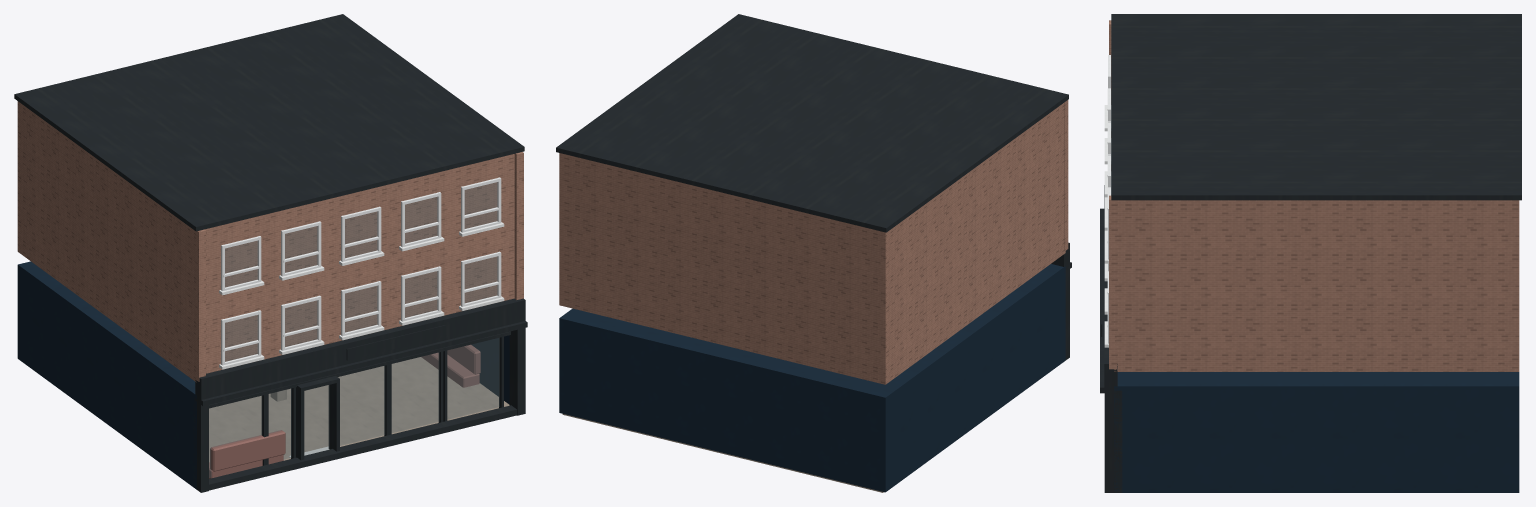
Rendered from renee-blockout.glb.
3 renders of one model, left to right at view 1: azimuth 30°, elevation 25°; view 2: azimuth 150°, elevation 25°; view 3: azimuth 270°, elevation 25°, orthographic. The views are drawn at different scales.
Parts seen in each view (by area): view 1: REN_UpperFacade_Main, REN_RoofCap, REN_Wall_Left, REN_Floor, REN_Fascia_Main, REN_GroundPlinth, REN_Glass_Bay_05, REN_Glass_Bay_04, REN_Glass_Bay_03, REN_CeilingPlane, REN_Fascia_LowerLip, REN_Glass_Bay_01 (+24 smaller); view 2: REN_UpperFacade_Main, REN_RoofCap, REN_Wall_Back, REN_Wall_Left, REN_CeilingPlane, REN_UpperPartyPier_Left, REN_Floor; view 3: REN_RoofCap, REN_UpperFacade_Main, REN_Wall_Right, REN_CeilingPlane, REN_GroundPier_Right, REN_UpperPartyPier_Right, REN_Fascia_LowerLip, REN_Wall_Back, REN_Fascia_Main.
Part boxes in pixels (bbox=[...]): REN_UpperFacade_Main: bbox=[17, 101, 514, 382]; REN_RoofCap: bbox=[14, 14, 524, 231]; REN_Wall_Left: bbox=[17, 270, 196, 489]; REN_Floor: bbox=[209, 357, 509, 462]; REN_Fascia_Main: bbox=[195, 298, 525, 399]; REN_GroundPlinth: bbox=[209, 405, 516, 490]; REN_Glass_Bay_05: bbox=[447, 338, 499, 419]; REN_Glass_Bay_04: bbox=[392, 353, 438, 432]; REN_Glass_Bay_03: bbox=[338, 366, 384, 445]; REN_CeilingPlane: bbox=[17, 261, 196, 399]; REN_Fascia_LowerLip: bbox=[195, 321, 527, 406]; REN_Glass_Bay_01: bbox=[209, 396, 261, 477]; REN_UpperFacade_Main: bbox=[559, 103, 1065, 384]; REN_RoofCap: bbox=[556, 14, 1068, 232]; REN_Wall_Back: bbox=[559, 320, 887, 492]; REN_Wall_Left: bbox=[881, 268, 1065, 490]; REN_CeilingPlane: bbox=[559, 264, 1065, 401]; REN_UpperPartyPier_Left: bbox=[1064, 100, 1068, 251]; REN_Floor: bbox=[562, 414, 883, 492]; REN_RoofCap: bbox=[1111, 14, 1521, 200]; REN_UpperFacade_Main: bbox=[1114, 200, 1519, 371]; REN_Wall_Right: bbox=[1114, 388, 1518, 492]; REN_CeilingPlane: bbox=[1114, 372, 1519, 390]; REN_GroundPier_Right: bbox=[1104, 389, 1122, 492]; REN_UpperPartyPier_Right: bbox=[1109, 195, 1116, 369]; REN_Fascia_LowerLip: bbox=[1100, 208, 1117, 393]; REN_Wall_Back: bbox=[1513, 390, 1519, 492]; REN_Fascia_Main: bbox=[1104, 185, 1117, 387].
Bounding box in the file's own units: 13.98 × 10.8 × 13.75.
Materials: 10 (8 with a texture image).
